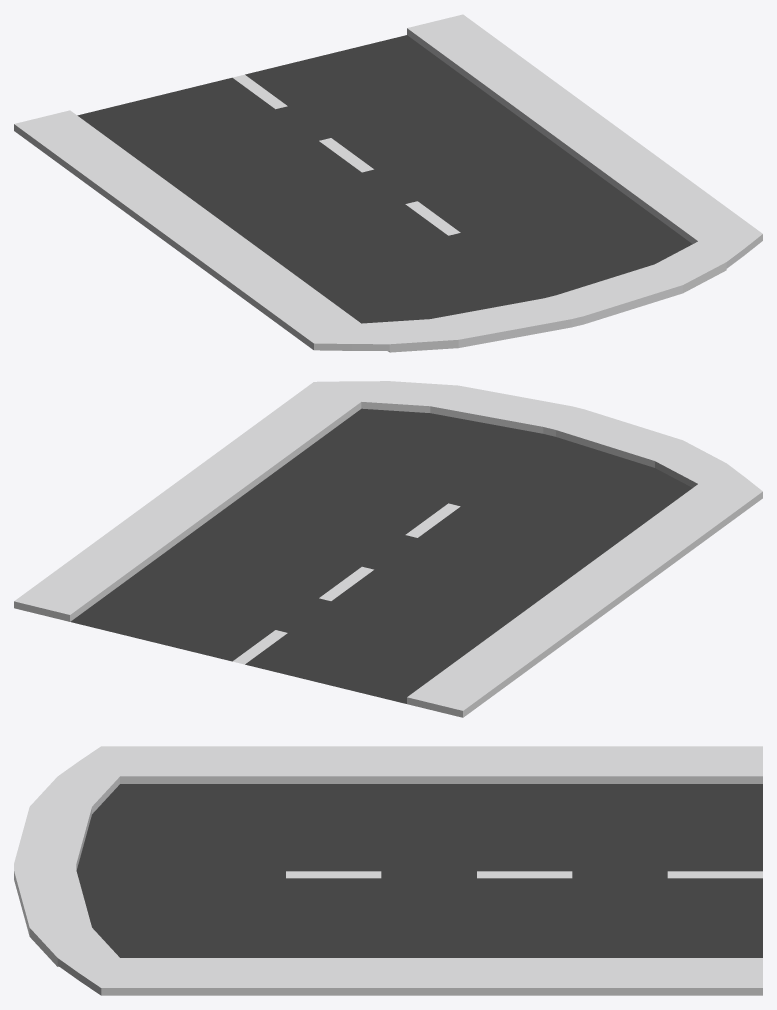
The model's file is two-lane-linear-road-end-piece.fbx.
The picture shows the model from 3 angles, top to bottom: view 1: azimuth 30°, elevation 25°; view 2: azimuth 150°, elevation 25°; view 3: azimuth 270°, elevation 25°; orthographic projection. The views are drawn at different scales.
Parts seen in each view (by area): view 1: two-lane-linear-road-end-piece; view 2: two-lane-linear-road-end-piece; view 3: two-lane-linear-road-end-piece.
Part boxes in pixels (x1,y1,x2,y2): two-lane-linear-road-end-piece: (14,14,762,352); two-lane-linear-road-end-piece: (14,381,762,717); two-lane-linear-road-end-piece: (14,746,762,995).
Size of the model in its own units: 11.2 by 0.1988 by 14.66.
